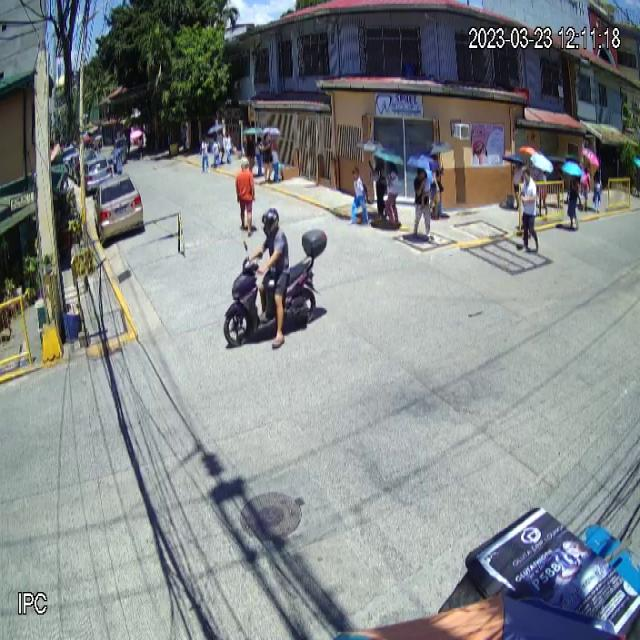Car: (93, 174, 144, 242)
Motorcycle: (224, 227, 327, 345)
